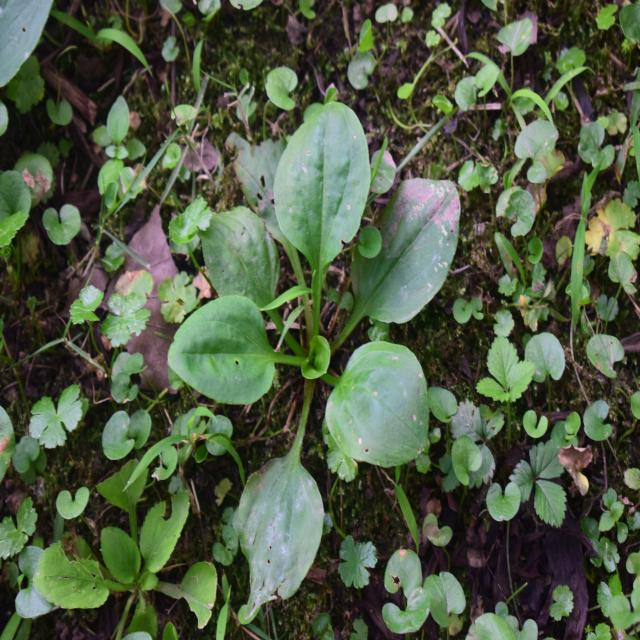plantain: (193, 88, 438, 544)
